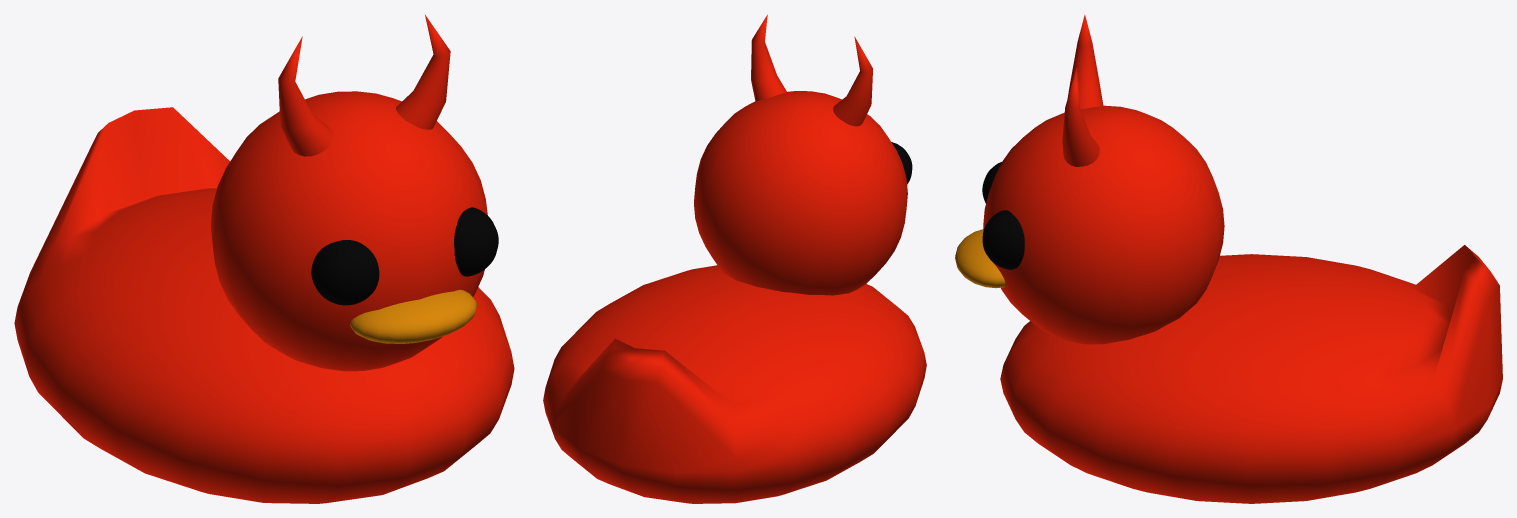
Rendered from DevilDucky.fbx.
The picture shows the model from 3 angles, left to right: view 1: azimuth 30°, elevation 25°; view 2: azimuth 150°, elevation 25°; view 3: azimuth 270°, elevation 25°; orthographic projection. The views are drawn at different scales.
Parts seen in each view (by area): view 1: polySurface1; view 2: polySurface1; view 3: polySurface1.
Boxes of the visible parts, x1=… form: polySurface1: x1=14, y1=15, x2=514, y2=503; polySurface1: x1=543, y1=14, x2=926, y2=503; polySurface1: x1=955, y1=14, x2=1502, y2=503.
Bounding box in the file's own units: 1.41 × 1.67 × 1.92.
